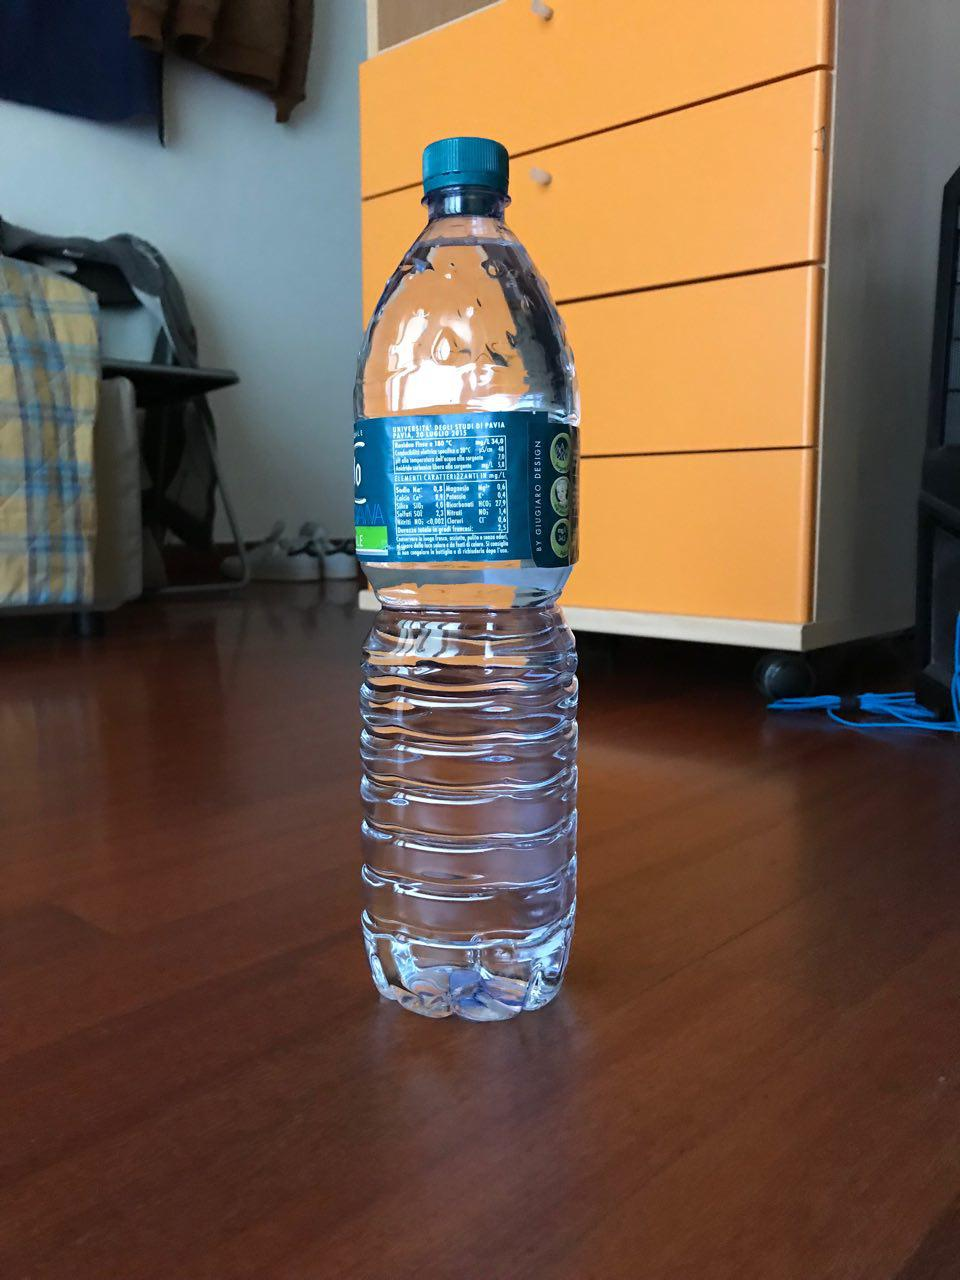san_bernardo: (345, 132, 582, 1025)
